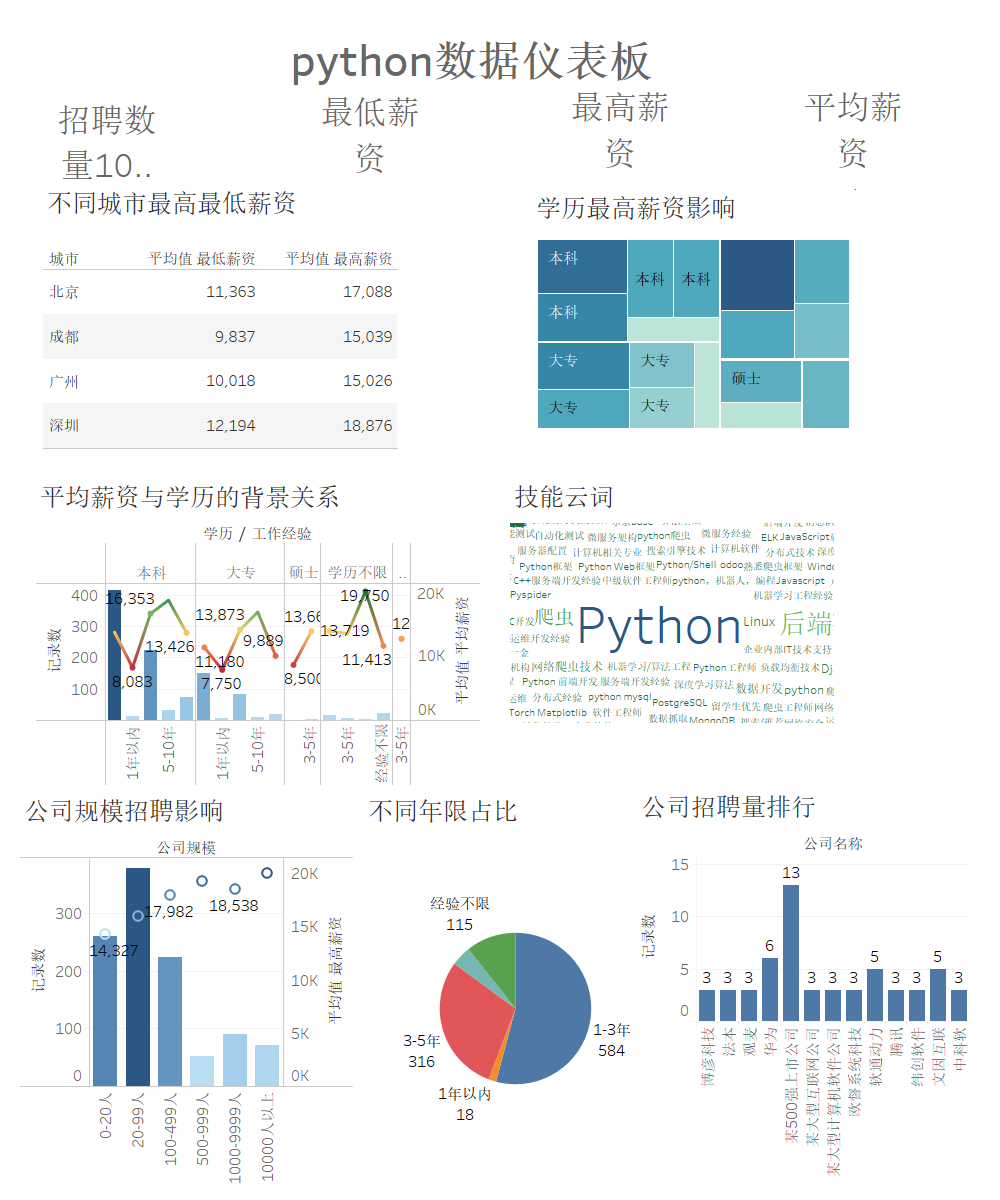

Layout of this report page (visuals, bound fields, positions):
{"tool":"tableau","page":{"name":"仪表板 1","canvas":[1000,800],"ordinal":0},"visuals":[{"type":"worksheet","title":"工作表 2","mark":"Automatic","rows":["学历"],"box":[299,11,232,186]},{"type":"worksheet","title":"工作表 3","mark":"Automatic","box":[556,12,300,218]},{"type":"worksheet","title":"工作表 1","mark":"Automatic","box":[22,15,279,135]},{"type":"worksheet","title":"工作表 5","mark":"Text","box":[314,237,312,177]},{"type":"worksheet","title":"工作表 6","mark":"Automatic","rows":["Number of Records","最高薪资"],"cols":["公司规模"],"box":[566,247,315,185]},{"type":"worksheet","title":"工作表 8","mark":"Automatic","rows":["Number of Records"],"cols":["公司名称"],"box":[360,452,333,266]},{"type":"worksheet","title":"工作表 7","mark":"Pie","box":[11,467,262,266]}]}

Visuals, with their boxes on the page's 1000x800 design canvas (x1, y1, x2, y2). These are canvas units, not pixel positions in the 1000x1200 screenshot, which may show the page scaled, cropped or inside an application window:
"工作表 2" worksheet: Rect(299, 11, 531, 197)
"工作表 3" worksheet: Rect(556, 12, 856, 230)
"工作表 1" worksheet: Rect(22, 15, 301, 150)
"工作表 5" worksheet (Text marks): Rect(314, 237, 626, 414)
"工作表 6" worksheet: Rect(566, 247, 881, 432)
"工作表 8" worksheet: Rect(360, 452, 693, 718)
"工作表 7" worksheet (Pie marks): Rect(11, 467, 273, 733)
